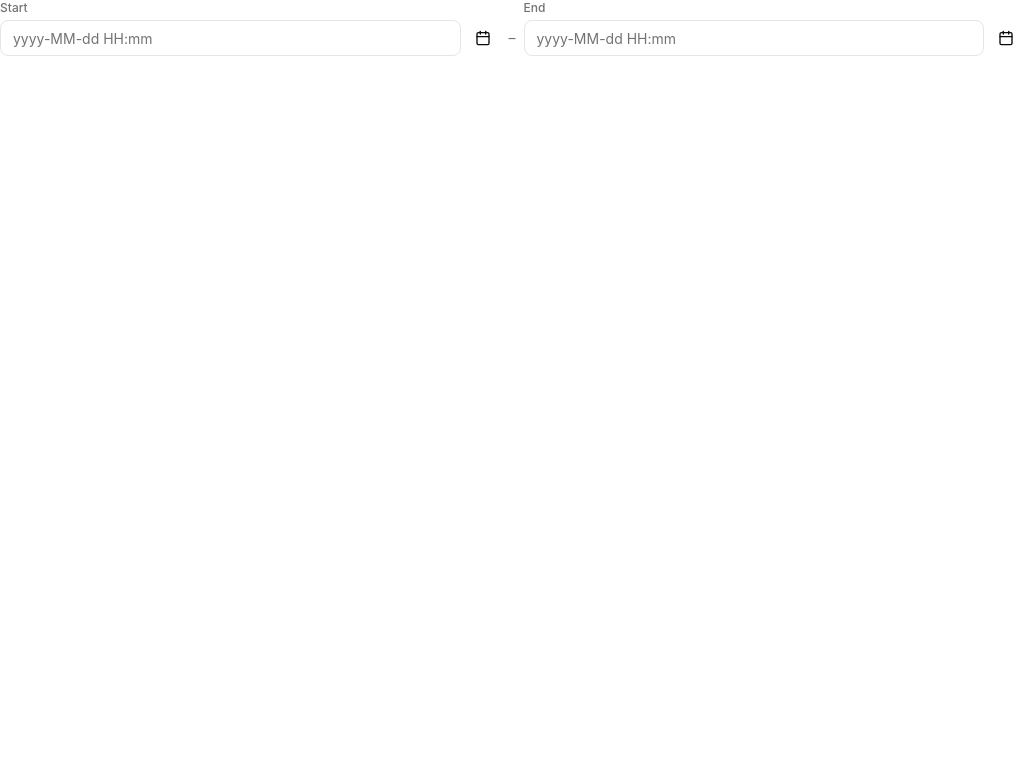
Test: DateTimeRangePicker › passes disableFuture to calendar
Click the 1st button named "Open calendar". click: [482, 38]
box: [464,20,500,56]
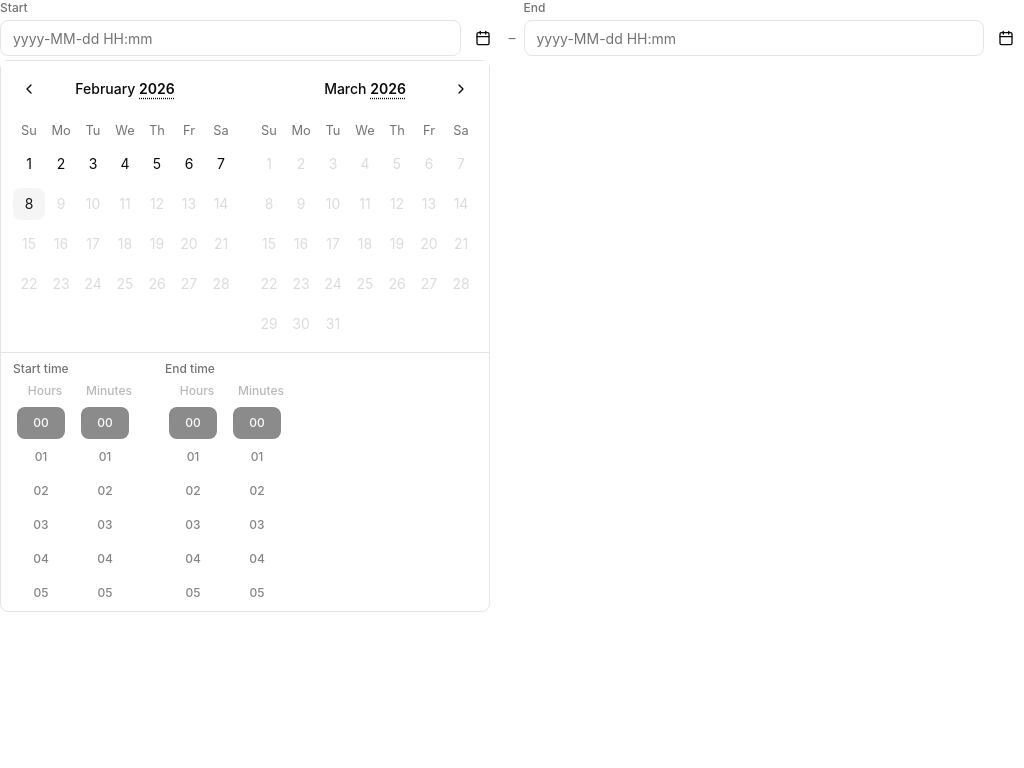
Expected: the text "Start time" is shown, [13,361,69,376]
